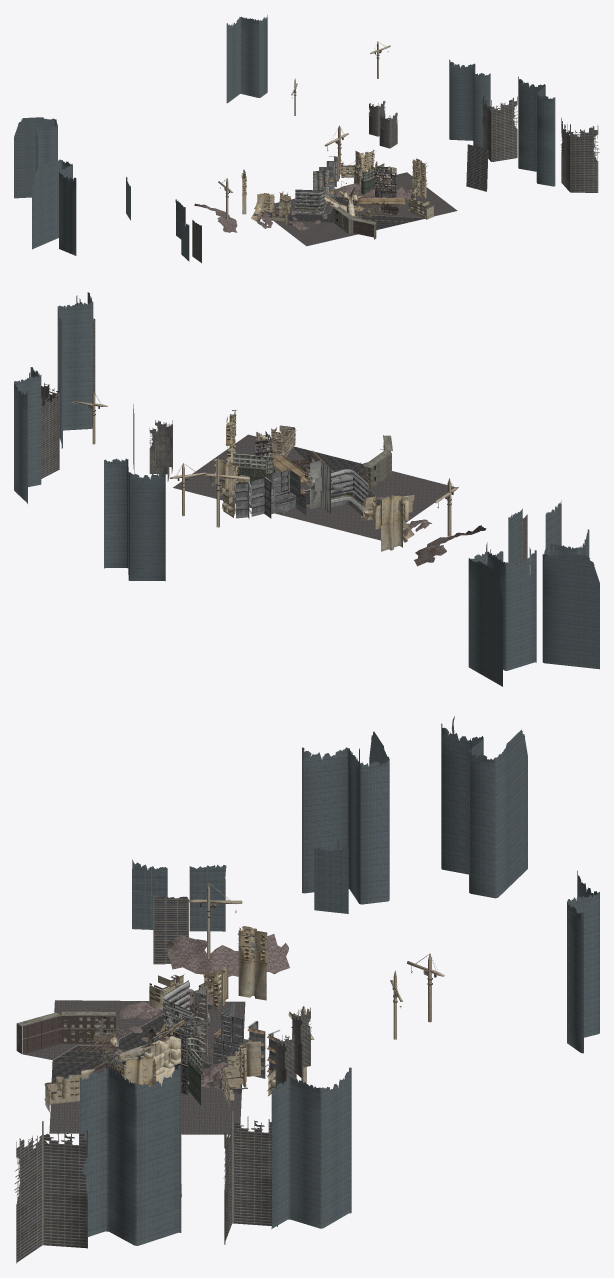
File: DestroyedCity.glb
3 views of the same model, one above another, from view 1: azimuth 30°, elevation 25°; view 2: azimuth 150°, elevation 25°; view 3: azimuth 270°, elevation 25° (orthographic). The views are drawn at different scales.
Parts seen in each view (by area): view 1: DC_Crane_02_St_219.001, DC_Crane_01_St_216.001, DC_FlrSide_St_237.001, DC_BGRubble_Group_St_8.001, DC_Buildings_C_St_72.001, DC_BG_Buildings_D_St_75.001, DC_FlrRoad_St_234.001, Buildings_A_St_11.001, DC_BGBldg_Near_06_St_147.001, DC_BGBldg_Near_11_St_162.001, DC_BG_Buildings_B_St_165.001, DC_Bldg_Left_Int_St_5.001 (+3 smaller); view 2: DC_Crane_02_St_219.001, DC_Crane_01_St_216.001, DC_FlrSide_St_237.001, Buildings_A_St_11.001, DC_Buildings_C_St_72.001, DC_BGBldg_Near_06_St_147.001, DC_BG_Buildings_D_St_75.001, DC_BGRubble_Group_St_8.001, DC_BG_Buildings_B_St_165.001, DC_BGBldg_Near_07_St_153.001, DC_Bldg_Left_Int_St_5.001, DC_FlrRoad_St_234.001; view 3: DC_Crane_02_St_219.001, DC_Crane_01_St_216.001, DC_FlrSide_St_237.001, DC_BGRubble_Group_St_8.001, DC_Buildings_C_St_72.001, Buildings_A_St_11.001, DC_Bldg_Left_Ext_St_231.001, DC_BG_Buildings_D_St_75.001, DC_FlrRoad_St_234.001, DC_BG_Buildings_B_St_165.001, DC_BGBldg_Near_11_St_162.001, DC_Bldg_Left_Int_St_5.001 (+2 smaller).
Part boxes in pixels (bbox=[...]): DC_Crane_02_St_219.001: bbox=[226, 15, 599, 192]; DC_Crane_01_St_216.001: bbox=[14, 117, 232, 262]; DC_FlrSide_St_237.001: bbox=[264, 172, 457, 246]; DC_BGRubble_Group_St_8.001: bbox=[194, 183, 412, 232]; DC_Buildings_C_St_72.001: bbox=[241, 169, 291, 225]; DC_BG_Buildings_D_St_75.001: bbox=[405, 158, 434, 219]; DC_FlrRoad_St_234.001: bbox=[265, 188, 423, 229]; Buildings_A_St_11.001: bbox=[313, 153, 341, 204]; DC_BGBldg_Near_06_St_147.001: bbox=[295, 183, 326, 213]; DC_BGBldg_Near_11_St_162.001: bbox=[375, 161, 396, 197]; DC_BG_Buildings_B_St_165.001: bbox=[340, 150, 375, 187]; DC_Bldg_Left_Int_St_5.001: bbox=[334, 206, 376, 239]; DC_Crane_02_St_219.001: bbox=[14, 292, 249, 581]; DC_Crane_01_St_216.001: bbox=[434, 478, 599, 686]; DC_FlrSide_St_237.001: bbox=[173, 434, 455, 540]; Buildings_A_St_11.001: bbox=[236, 460, 331, 518]; DC_Buildings_C_St_72.001: bbox=[361, 493, 414, 551]; DC_BGBldg_Near_06_St_147.001: bbox=[331, 468, 368, 516]; DC_BG_Buildings_D_St_75.001: bbox=[226, 410, 296, 463]; DC_BGRubble_Group_St_8.001: bbox=[281, 496, 486, 566]; DC_BG_Buildings_B_St_165.001: bbox=[212, 459, 251, 517]; DC_BGBldg_Near_07_St_153.001: bbox=[233, 453, 274, 489]; DC_Bldg_Left_Int_St_5.001: bbox=[363, 435, 392, 488]; DC_FlrRoad_St_234.001: bbox=[249, 446, 380, 507]; DC_Crane_02_St_219.001: bbox=[14, 870, 599, 1263]; DC_Crane_01_St_216.001: bbox=[132, 716, 527, 964]; DC_FlrSide_St_237.001: bbox=[23, 1000, 245, 1134]; DC_BGRubble_Group_St_8.001: bbox=[115, 934, 289, 1088]; DC_Buildings_C_St_72.001: bbox=[149, 926, 273, 1011]; Buildings_A_St_11.001: bbox=[192, 983, 280, 1078]; DC_Bldg_Left_Ext_St_231.001: bbox=[22, 1016, 115, 1054]; DC_BG_Buildings_D_St_75.001: bbox=[44, 1055, 156, 1111]; DC_FlrRoad_St_234.001: bbox=[50, 1002, 241, 1105]; DC_BG_Buildings_B_St_165.001: bbox=[219, 1041, 275, 1108]; DC_BGBldg_Near_11_St_162.001: bbox=[144, 1030, 187, 1095]; DC_Bldg_Left_Int_St_5.001: bbox=[16, 1011, 115, 1053].
Size of what is drawn, in the model's own units: 1501 by 374 by 888.
Materials: 23 (23 with a texture image).
